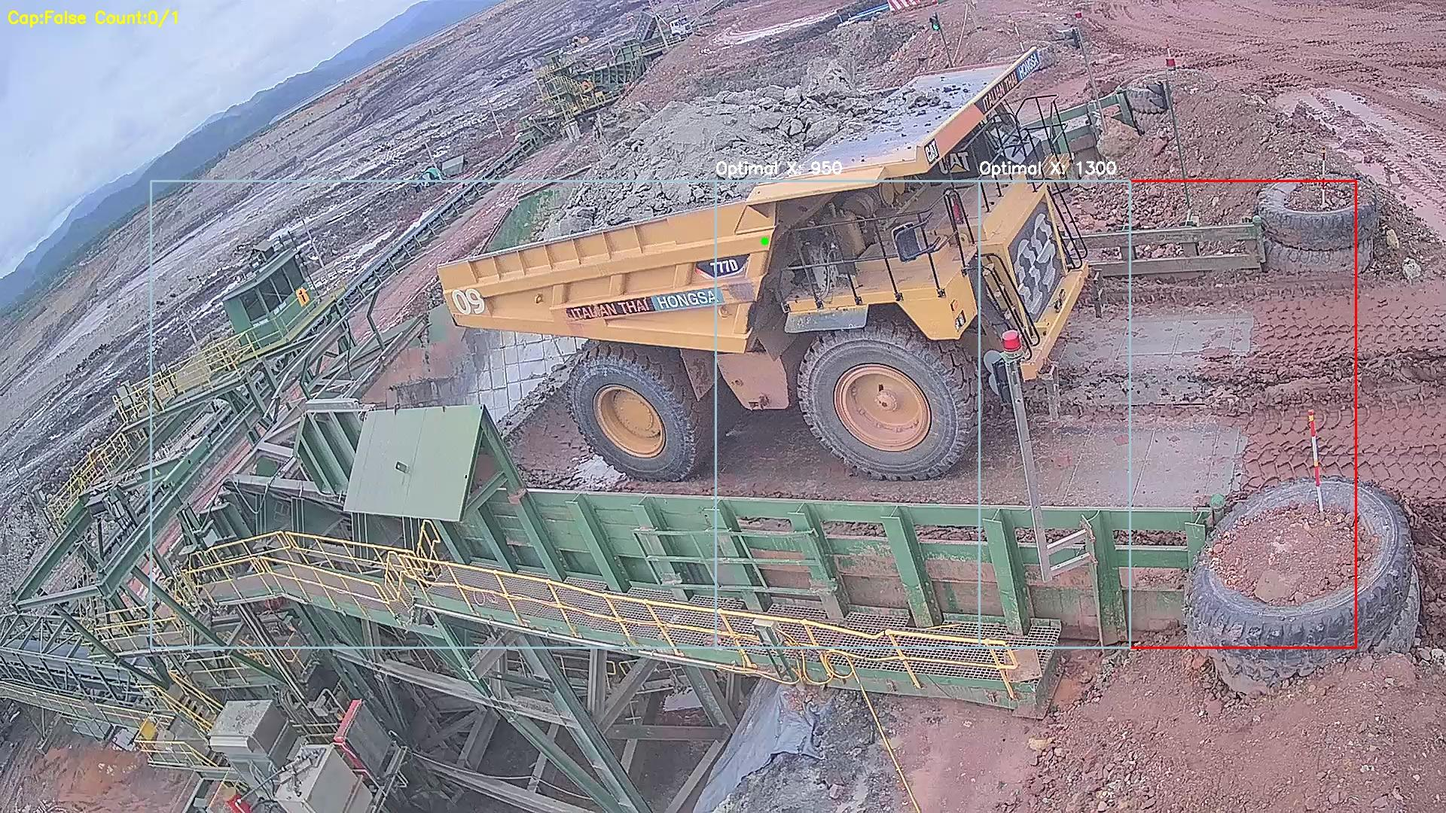company: (557, 286, 728, 326)
full_load: (556, 97, 816, 224)
mining_truck: (434, 45, 1130, 496)
tail_number: (448, 280, 487, 318)
truck_size: (693, 254, 753, 280)
